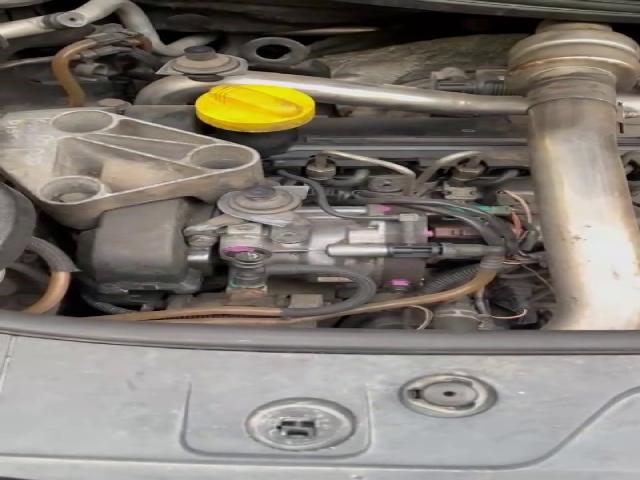high_pressure_pump: (203, 186, 442, 300)
